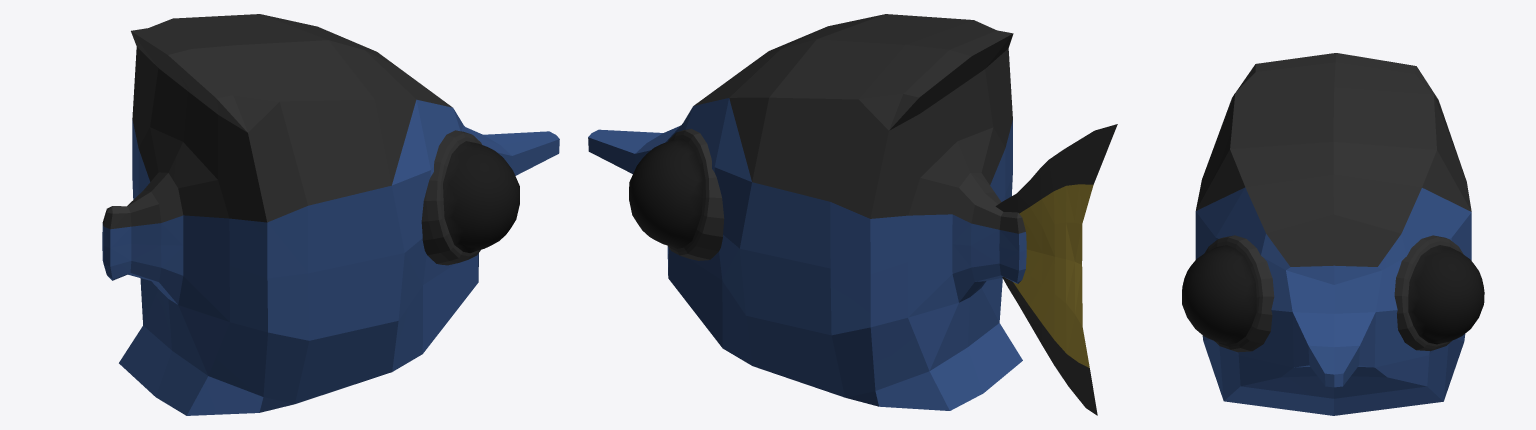
Rendered from fish_bluetang.glb.
3 renders of one model, left to right at view 1: azimuth 30°, elevation 25°; view 2: azimuth 150°, elevation 25°; view 3: azimuth 270°, elevation 25°, orthographic. The views are drawn at different scales.
Visible parts, largest first — view 1: BlueTang; view 2: BlueTang; view 3: BlueTang.
Part boxes in pixels (<box>): BlueTang: <box>102,14,559,415</box>; BlueTang: <box>588,14,1117,415</box>; BlueTang: <box>1182,53,1484,415</box>.
Size of the model in its own units: 1 by 0.6002 by 0.6768.
